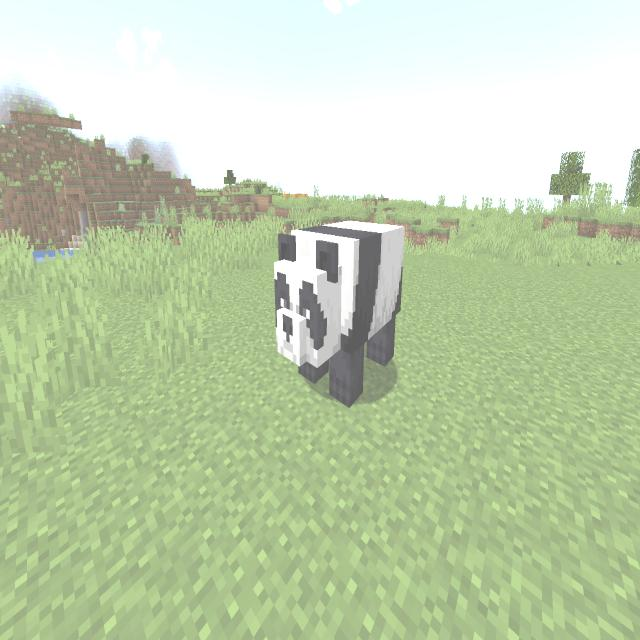Panda: (268, 212, 414, 416)
